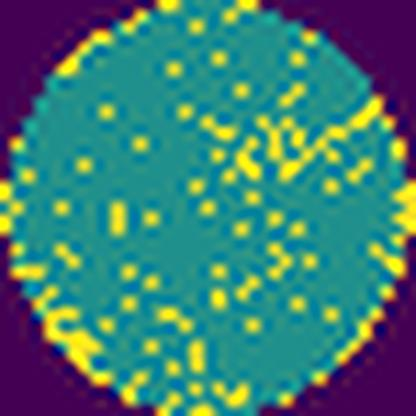Edge-Loc: (31, 285, 115, 387), (389, 174, 416, 241)
